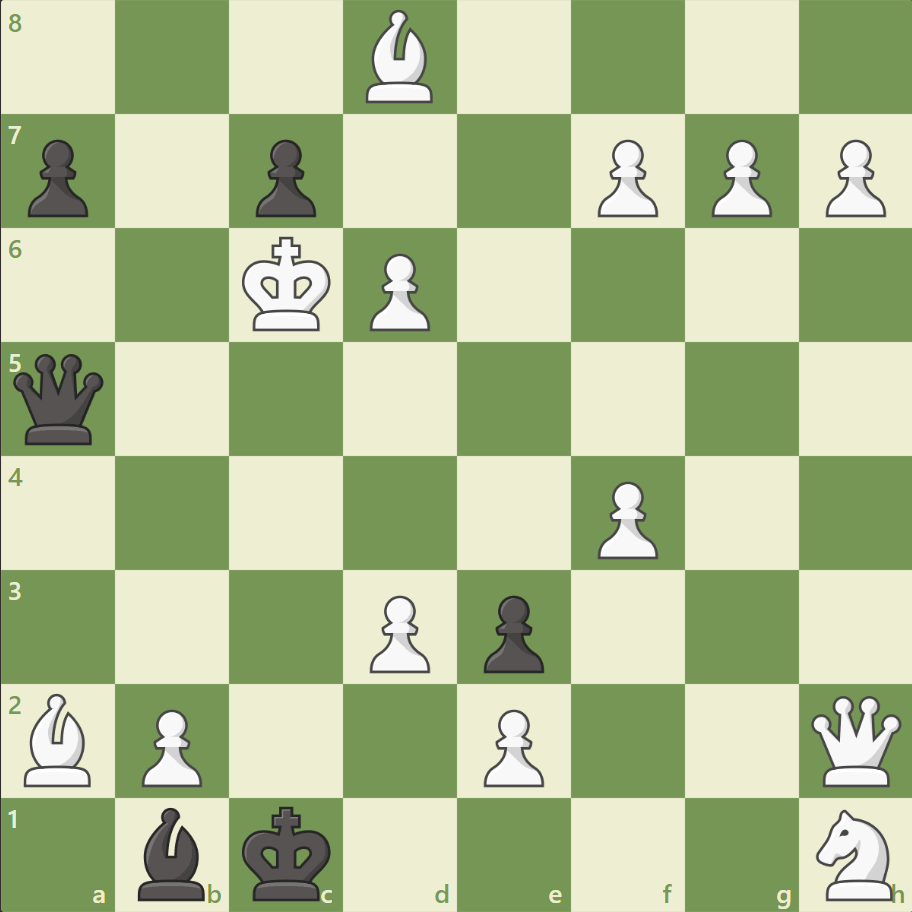B: (358, 6, 442, 109), (17, 687, 101, 790)
K: (238, 231, 338, 339)
N: (806, 802, 903, 904)
P: (701, 132, 776, 223), (133, 700, 208, 791), (474, 700, 549, 791), (588, 132, 662, 223), (815, 132, 889, 223), (361, 246, 435, 337), (588, 473, 662, 564), (361, 586, 435, 677)
Q: (805, 690, 904, 789)
b: (131, 801, 215, 904)
k: (238, 798, 338, 906)
p: (20, 132, 95, 223), (247, 132, 322, 223), (474, 586, 549, 677)
q: (10, 349, 109, 449)
